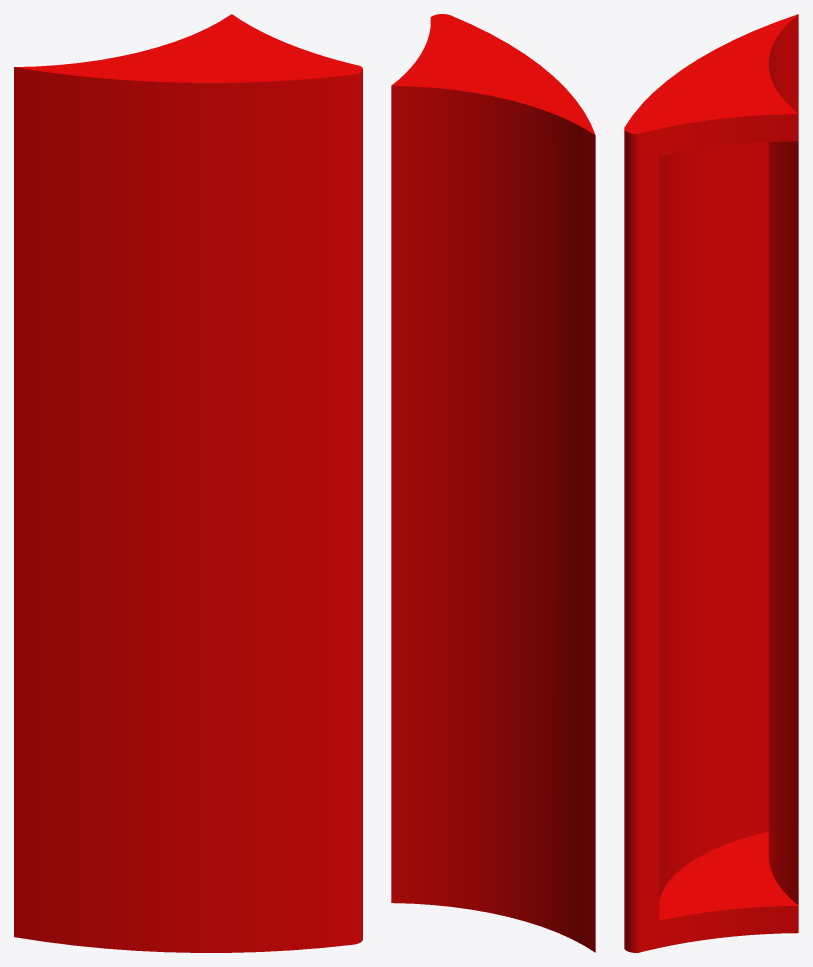
File: original-182.obj
3 views of the same model, side by side, from view 1: azimuth 30°, elevation 25°; view 2: azimuth 150°, elevation 25°; view 3: azimuth 270°, elevation 25° (orthographic). The views are drawn at different scales.
Visible parts, largest first — view 1: Group19/mesh600/mesh600-geometry#mesh600-geometry; view 2: Group19/mesh600/mesh600-geometry#mesh600-geometry; view 3: Group19/mesh600/mesh600-geometry#mesh600-geometry.
Boxes of the visible parts, bbox=[...] form: Group19/mesh600/mesh600-geometry#mesh600-geometry: bbox=[14, 14, 362, 952]; Group19/mesh600/mesh600-geometry#mesh600-geometry: bbox=[391, 14, 595, 952]; Group19/mesh600/mesh600-geometry#mesh600-geometry: bbox=[624, 14, 798, 952].
Size of the model in its own units: 0.0428 by 0.1362 by 0.0263.
